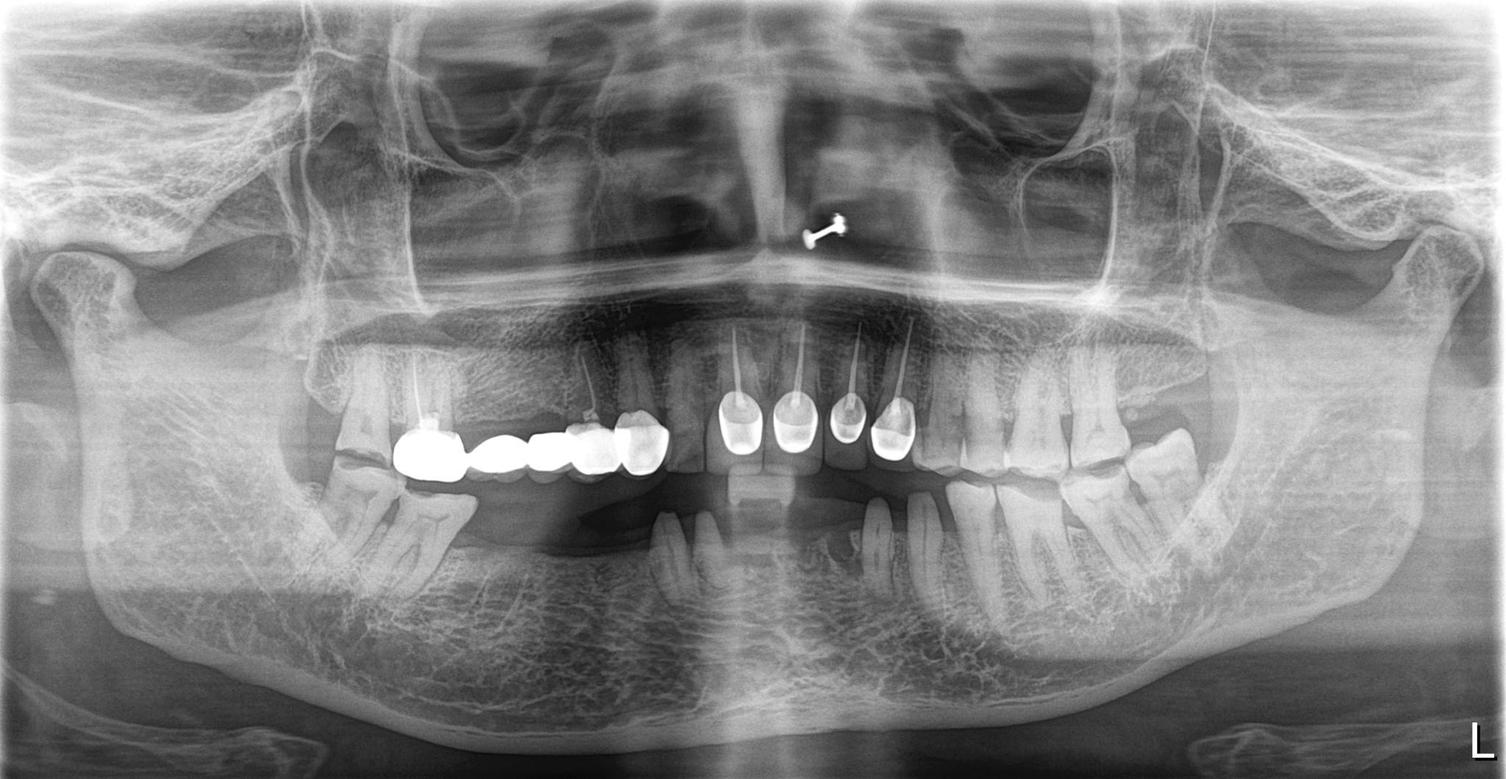Endodontically Treated Tooth: (393, 356, 671, 486), (715, 342, 770, 464), (774, 334, 823, 455), (829, 334, 864, 448), (886, 336, 911, 448)
Impacted Third Molar: (1136, 434, 1241, 536)
Missing Tooth: (469, 505, 543, 650), (548, 520, 602, 636), (288, 355, 348, 454), (783, 529, 841, 631), (728, 524, 779, 624), (614, 527, 658, 628), (1169, 334, 1213, 427), (1123, 338, 1164, 423)
